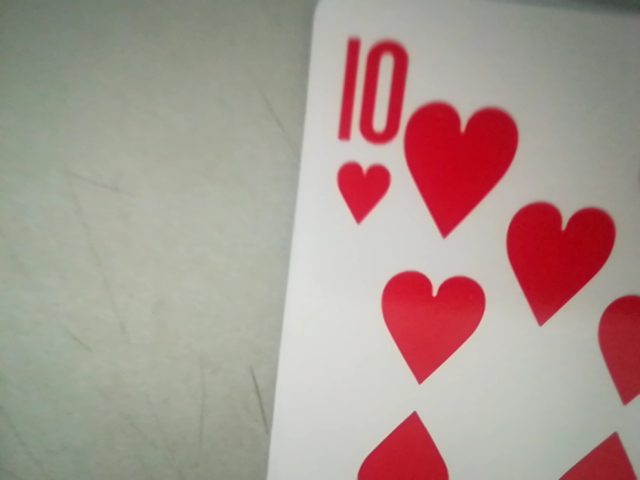hx 10: (332, 37, 408, 225)
